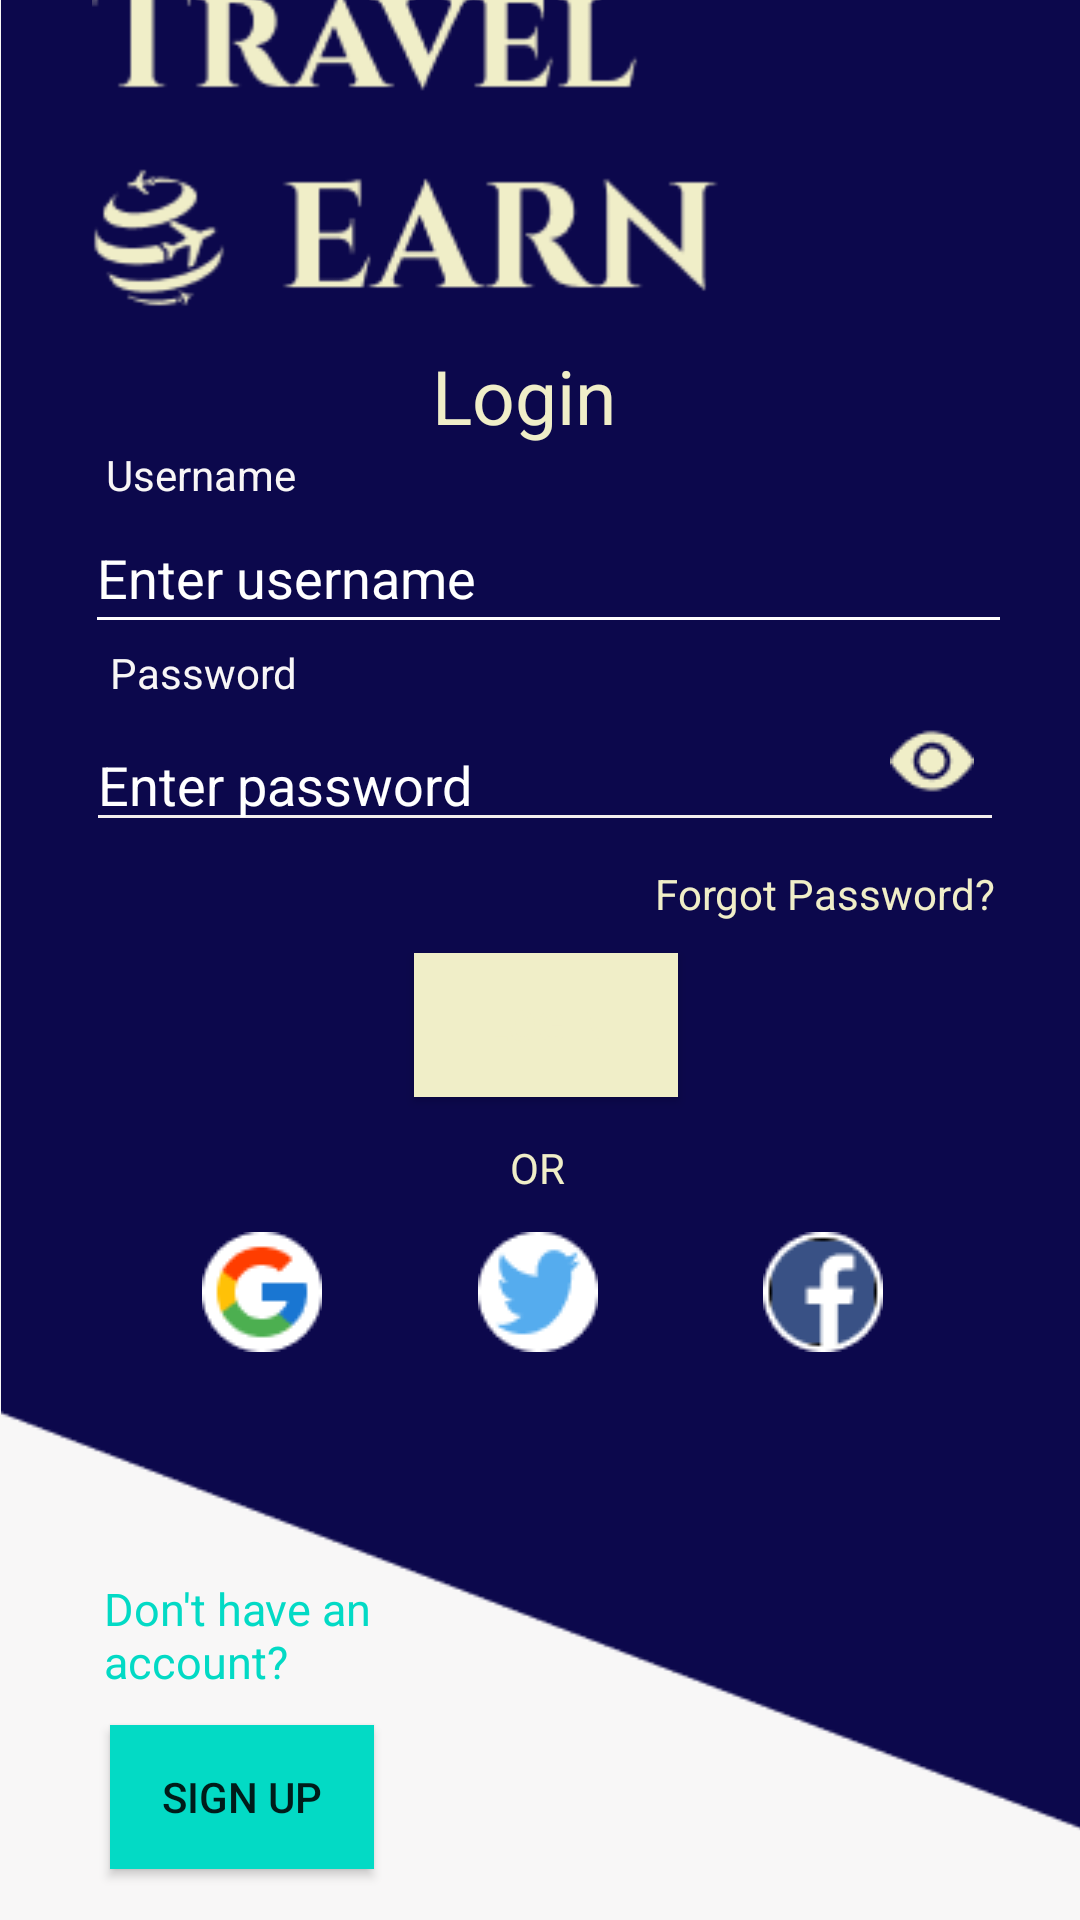

Where to tap for icons on this 1080w x 1920h app screen, as [x,y]:
eye: [932,761]
